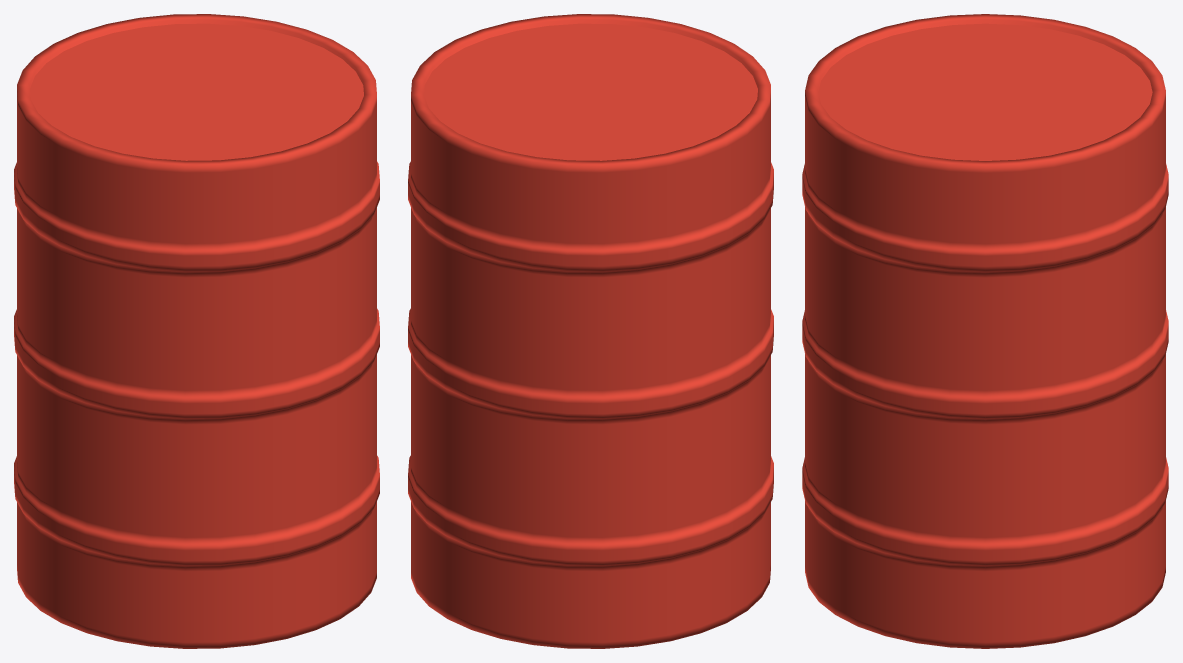
Rendered from Oil_Barrel.fbx.
3 renders of one model, left to right at view 1: azimuth 30°, elevation 25°; view 2: azimuth 150°, elevation 25°; view 3: azimuth 270°, elevation 25°, orthographic.
Parts seen in each view (by area): view 1: Oil_Barrel; view 2: Oil_Barrel; view 3: Oil_Barrel.
Boxes of the visible parts, bbox=[...] form: Oil_Barrel: bbox=[14, 14, 379, 648]; Oil_Barrel: bbox=[408, 14, 773, 648]; Oil_Barrel: bbox=[802, 14, 1168, 648].
Size of the model in its own units: 203 by 295 by 203.
